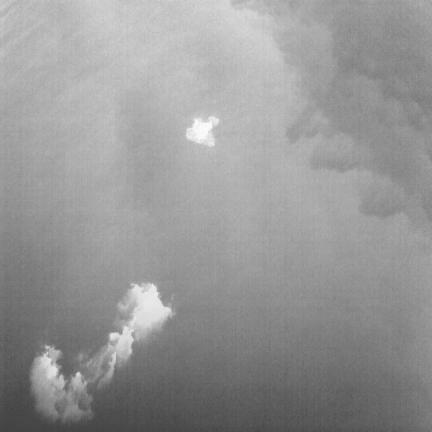flukeprints: (118, 284, 172, 340), (186, 116, 219, 146), (110, 326, 133, 364), (38, 347, 60, 380), (69, 372, 88, 399)
